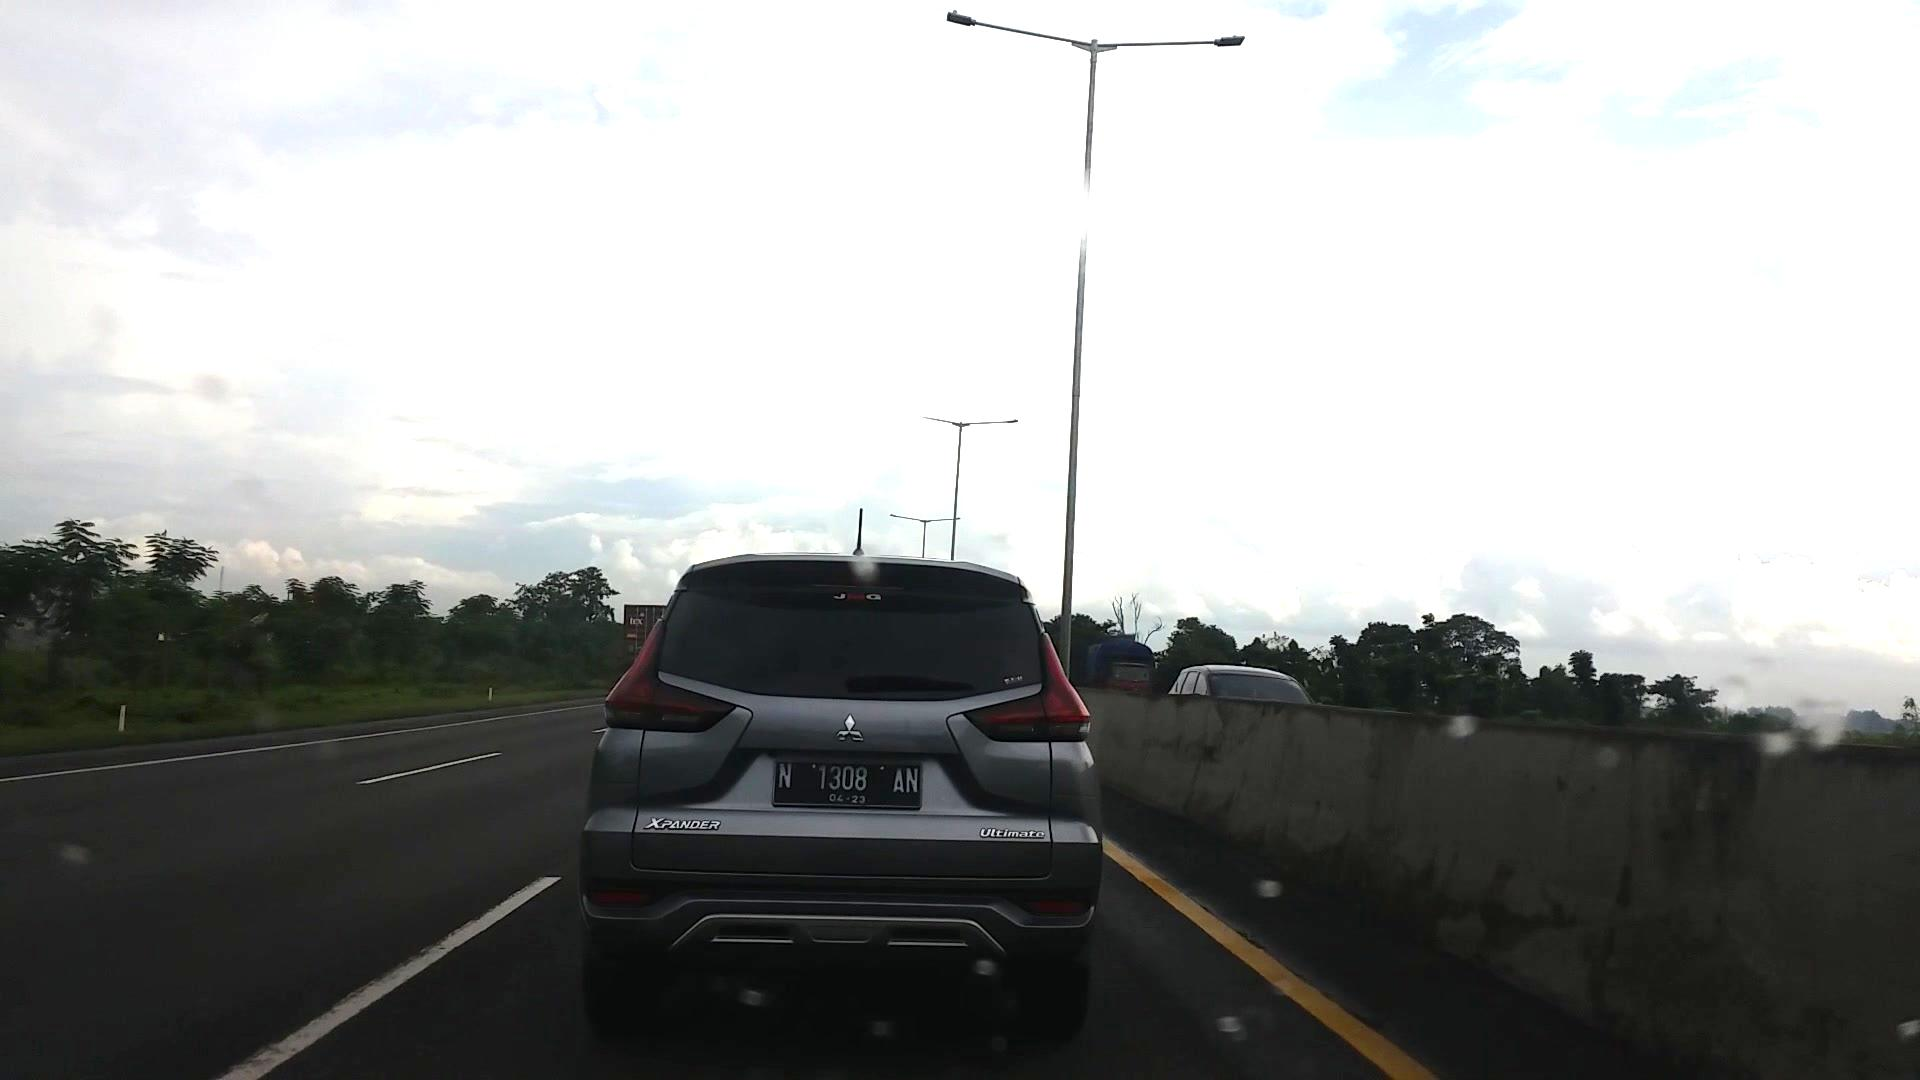plate_positive: (771, 761, 923, 808)
